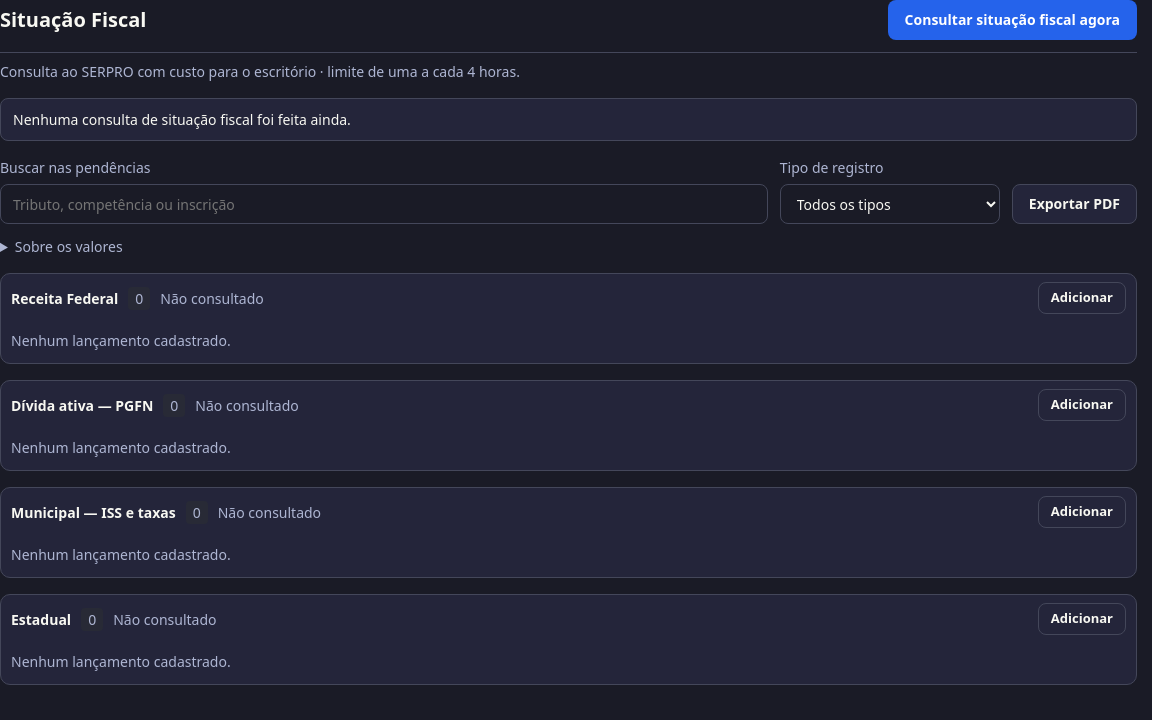
Scenario: aba sem consulta permite cadastro manual e erro de gravação mantém formulário
The image size is (1152, 720).
Click the button "Adicionar" in the row of "Municipal — ISS e taxas": (1082, 512) [1038,496,1126,528]
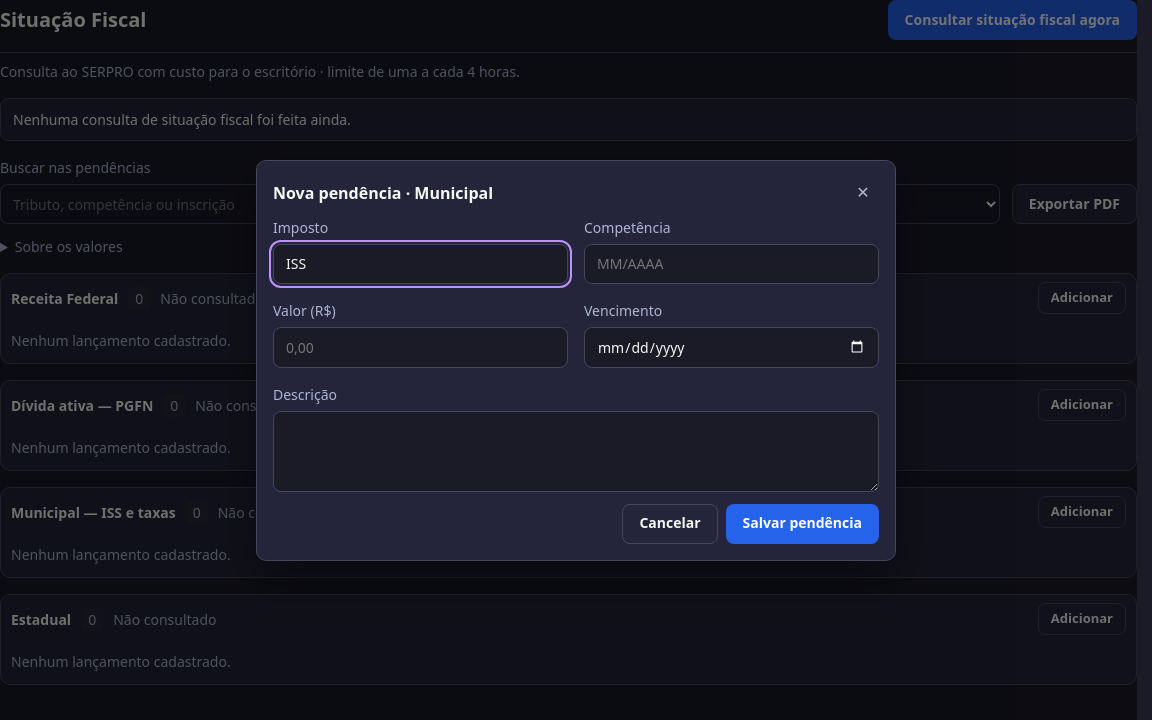
Click the button "Salvar pendência": (802, 524) [726,504,879,544]
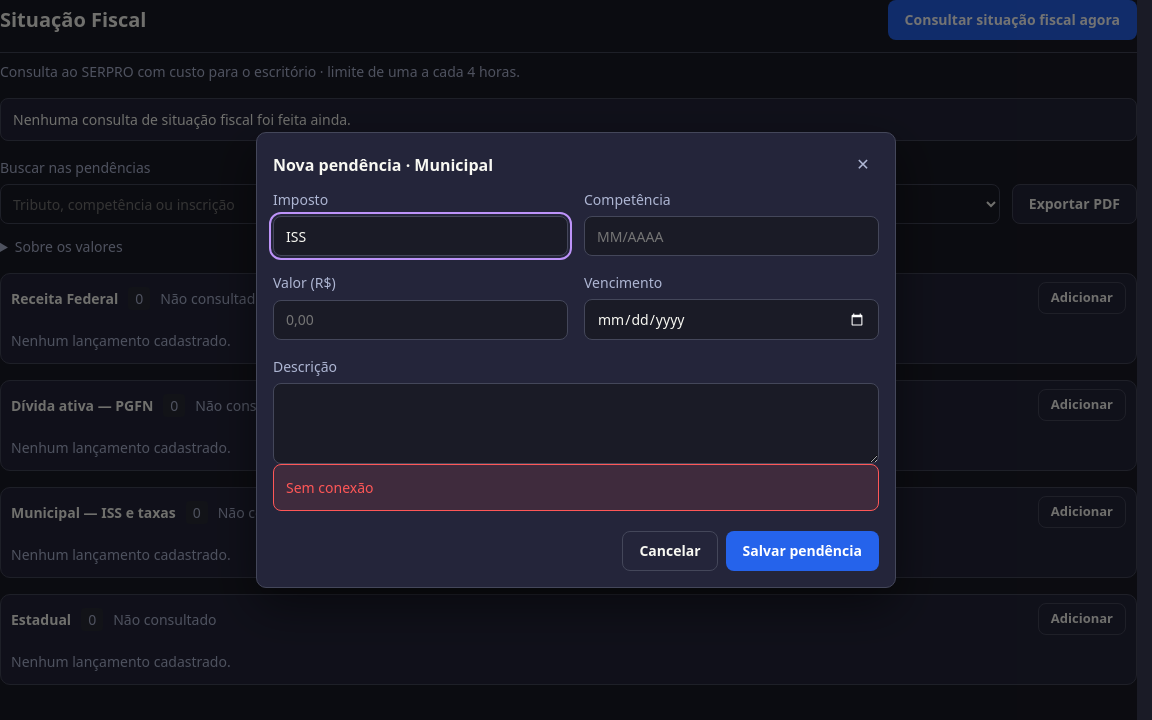
Now the field labelled "Imposto" holds "ISS", box [273,216,568,256]
Now the message reads "Sem conexão", box [286,478,374,497]
